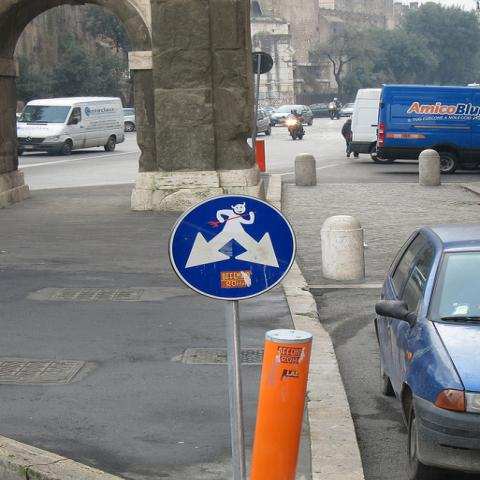car: (372, 224, 479, 473), (270, 105, 314, 126), (123, 107, 138, 134), (256, 109, 271, 135), (307, 102, 329, 117), (340, 102, 355, 118)
motorcycle: (283, 114, 304, 138), (328, 104, 341, 120)
truck: (377, 80, 478, 177), (16, 96, 126, 156), (345, 90, 392, 162)
